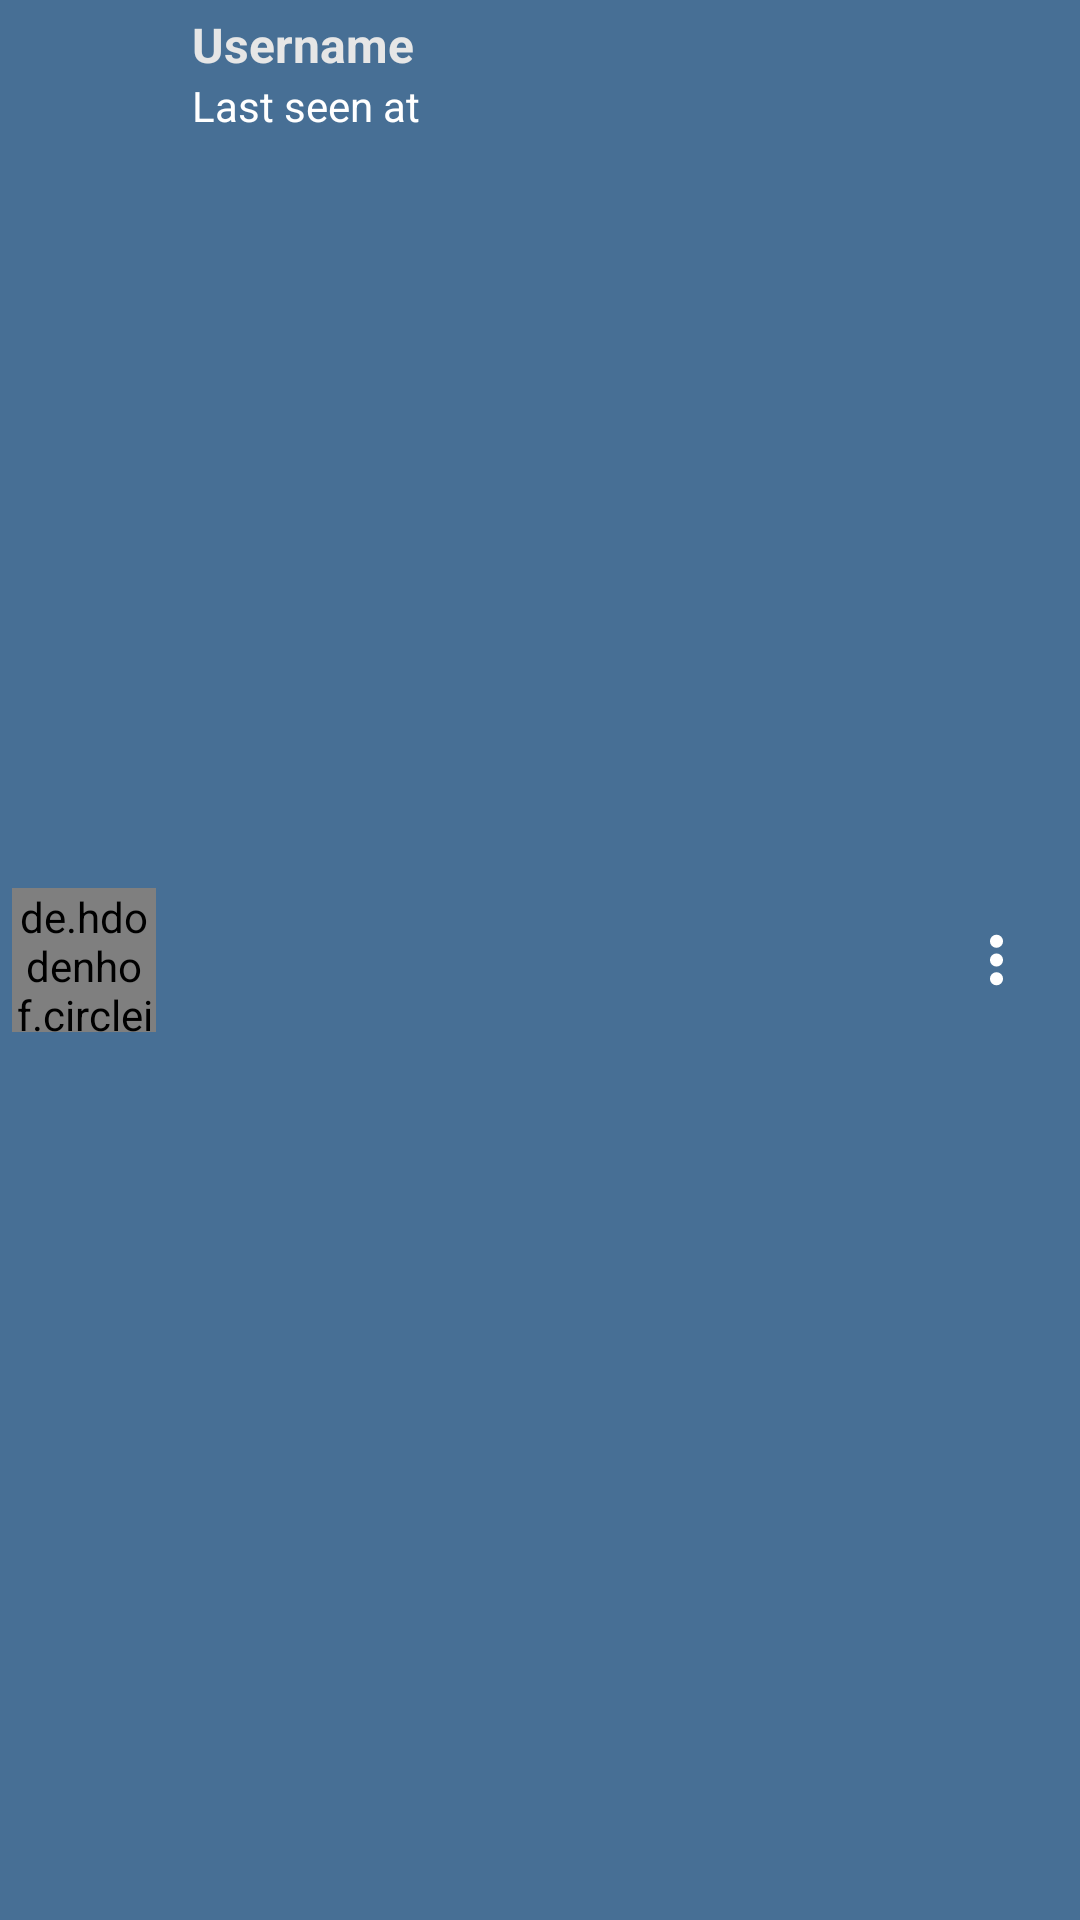

Where icons sit on this 1080*1920 app screen, as box(x1, y1, x2, y2):
More options: box(990, 934, 1003, 986)
